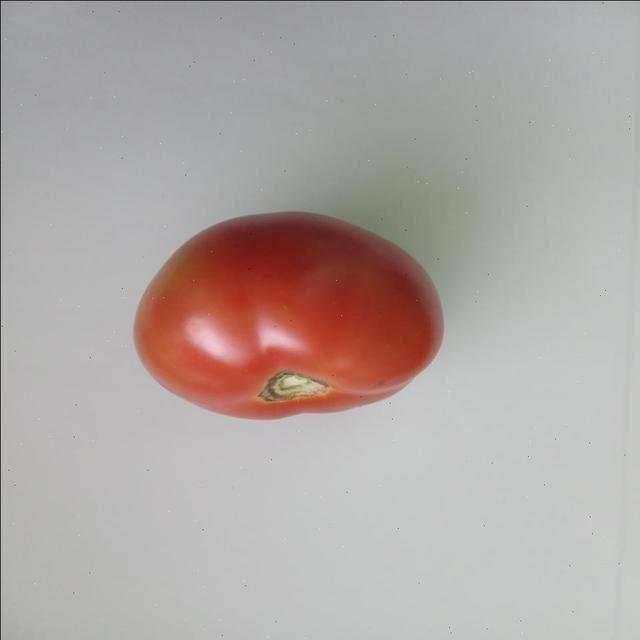Healthy Fruit: (89, 138, 299, 284)
